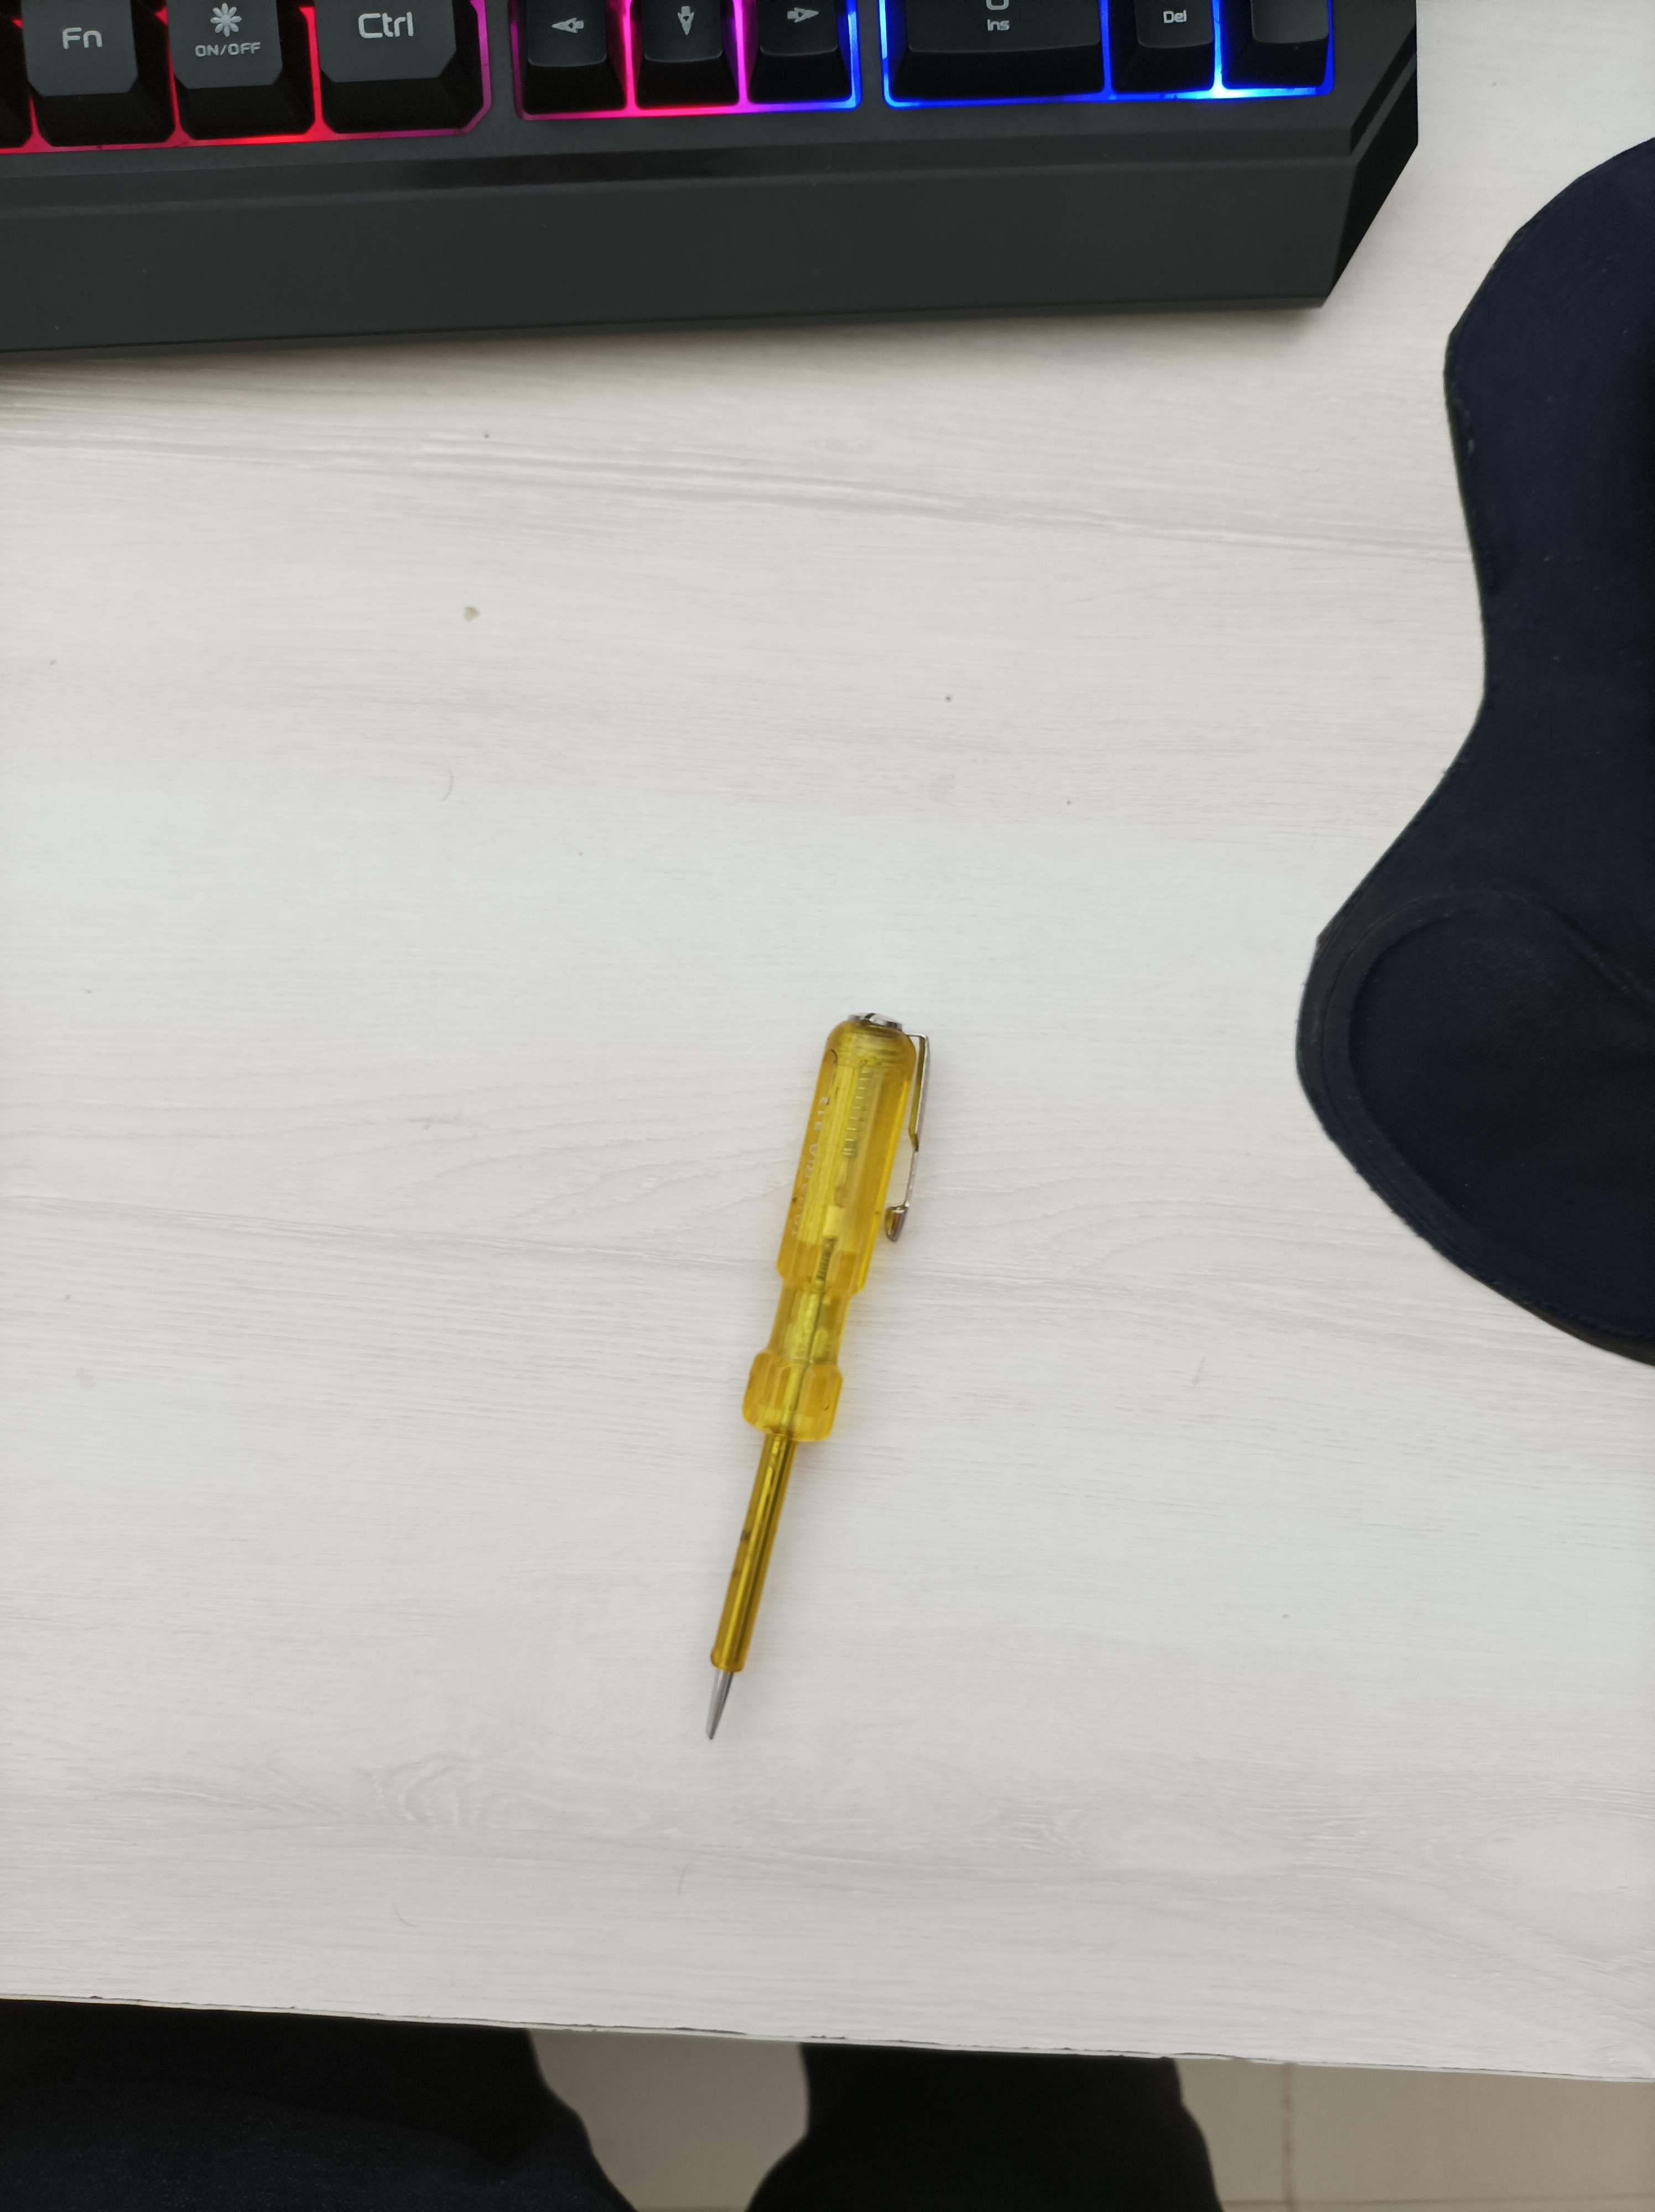keyboard: (0, 2, 1431, 346)
screwdriver: (688, 1003, 935, 1762)
